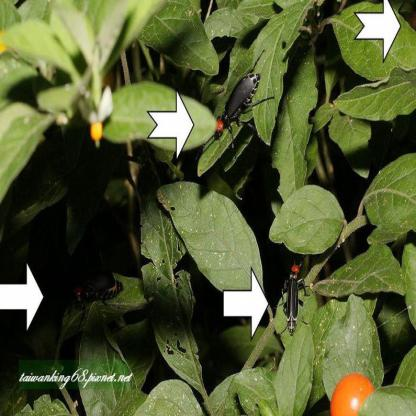beetle: (212, 57, 269, 142), (282, 257, 311, 338), (68, 270, 125, 309)
